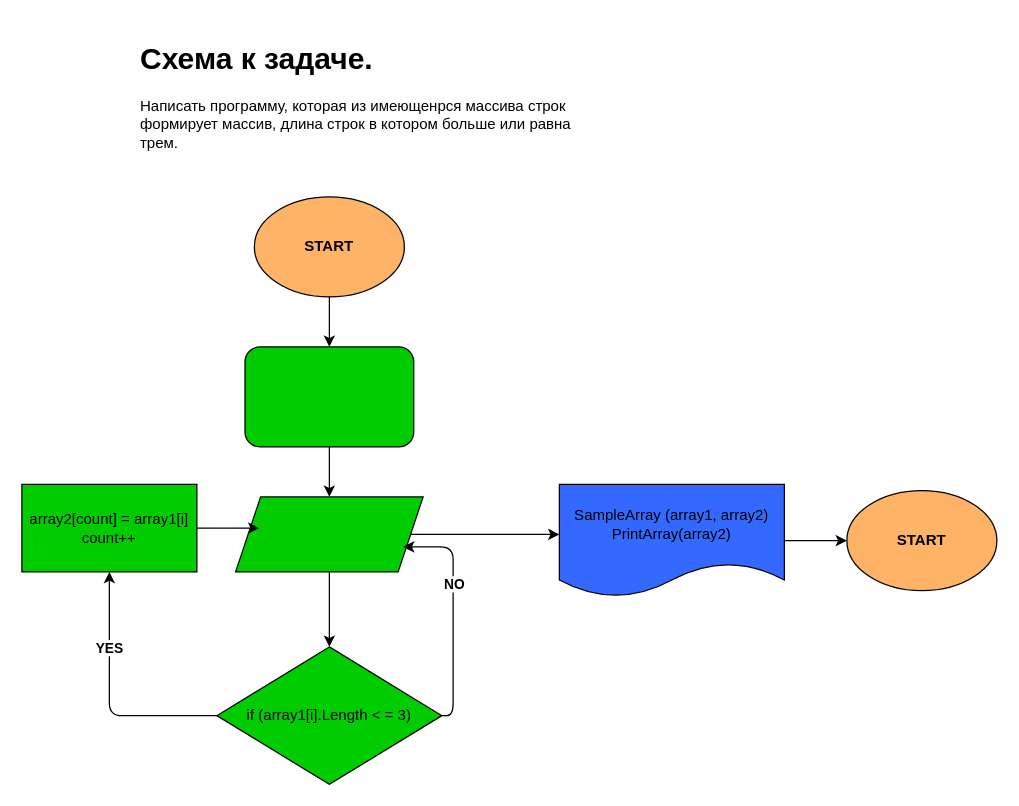
This 1019x806 diagram has some shape labels left out. The centre of each missing label's shape, as x and y in pixels:
for (int i = 0; i < array1.Length; i++): (x=328, y=534)
SampleArray string[] array1 string[] array2 int count = 0: (x=329, y=396)
